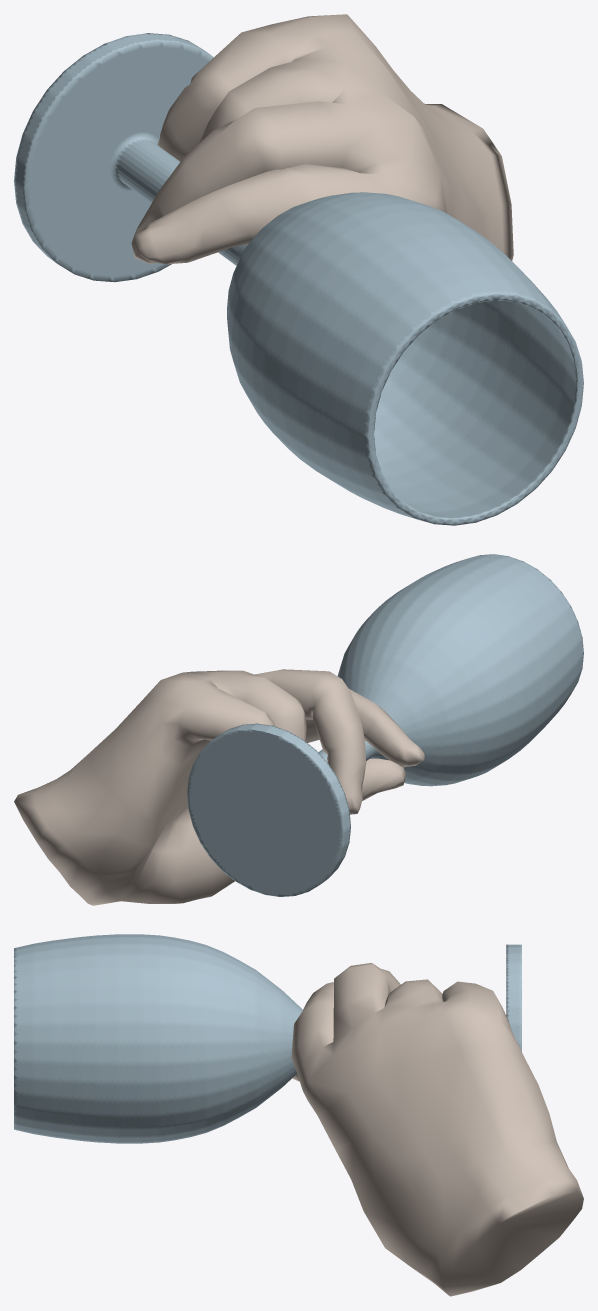
Rendered from pred_11.glb.
3 views of the same model, one above another, from view 1: azimuth 30°, elevation 25°; view 2: azimuth 150°, elevation 25°; view 3: azimuth 270°, elevation 25° (orthographic). The views are drawn at different scales.
Size of the model in its own units: 0.1376 by 0.0949 by 0.1929.
